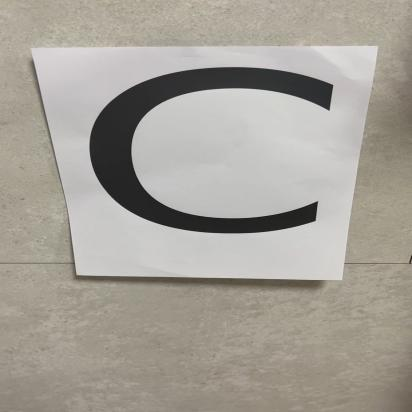seat: (52, 48, 368, 282)
